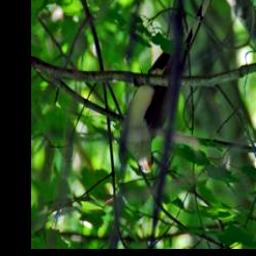Cuckoo: (121, 0, 224, 177)
